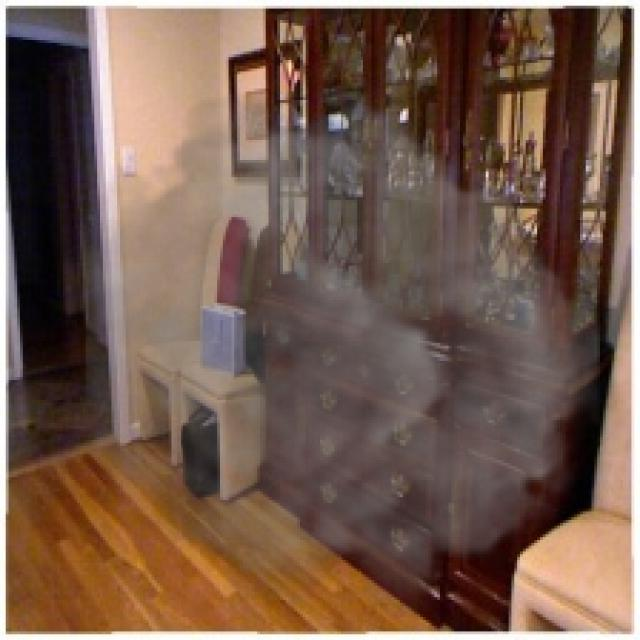smoke: (86, 74, 600, 620)
